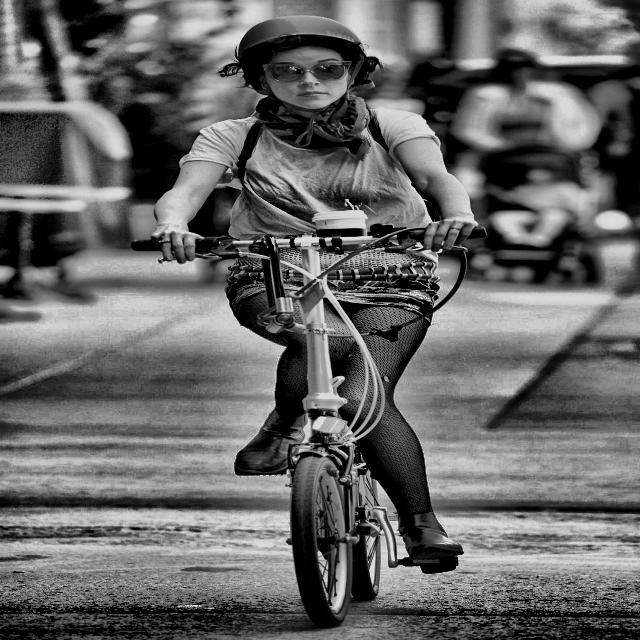Helmet: (219, 14, 392, 131)
